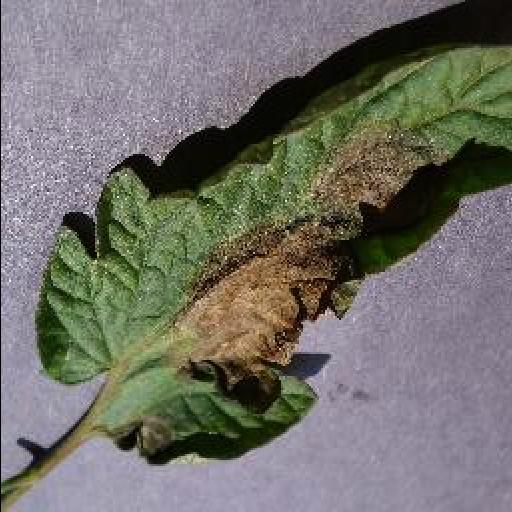disease_tomato: (36, 34, 512, 466)
